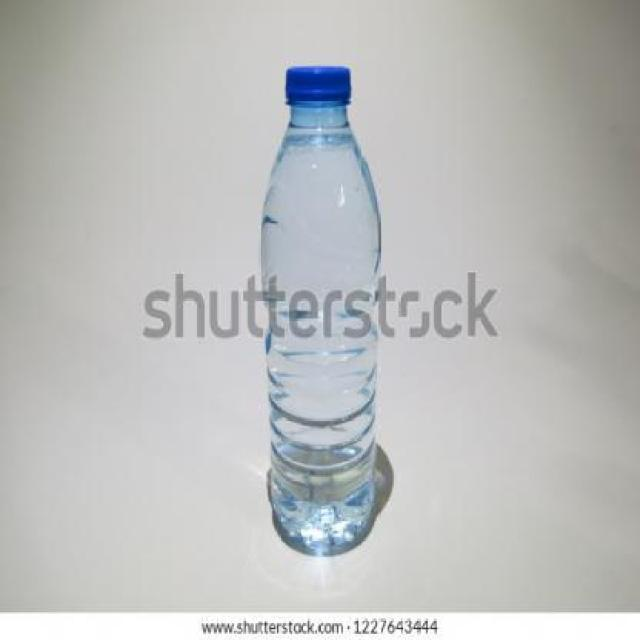bottle: (262, 58, 389, 564)
